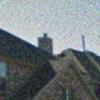chimneys: (36, 32, 52, 56), (82, 34, 86, 52)
